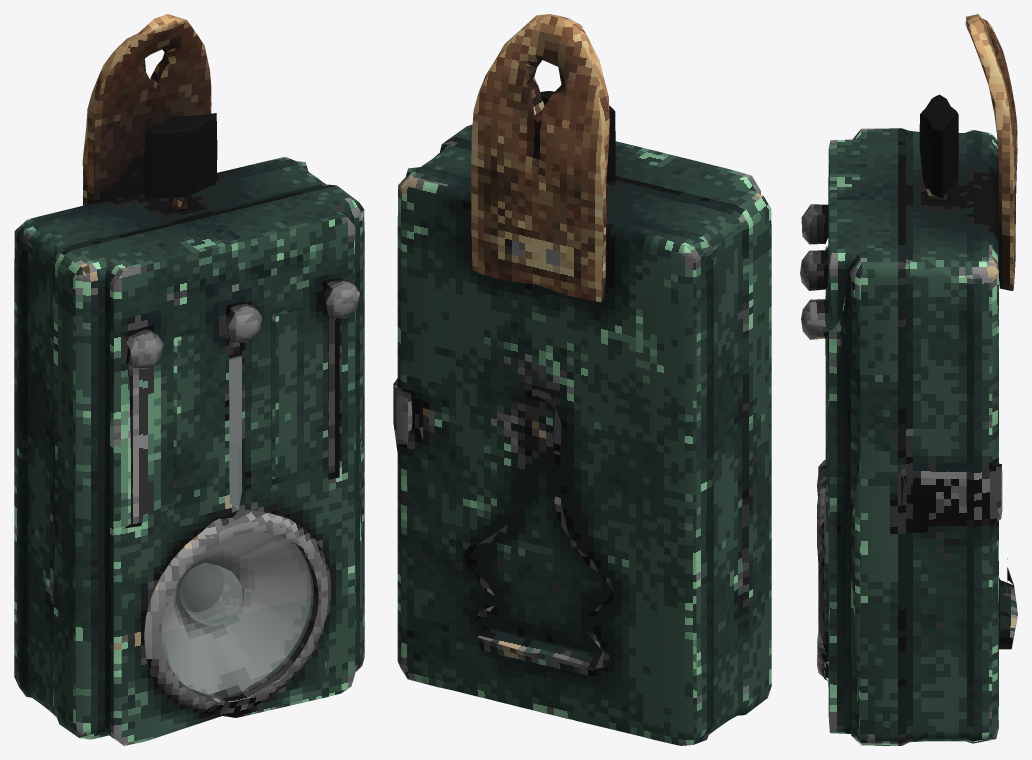
File: signal_flashlight.glb
3 renders of one model, left to right at view 1: azimuth 30°, elevation 25°; view 2: azimuth 150°, elevation 25°; view 3: azimuth 270°, elevation 25°, orthographic. The views are drawn at different scales.
Visible parts, largest first — view 1: body, glass; view 2: body; view 3: body.
Part boxes in pixels (<box>): body: <box>14,14,364,745</box>; glass: <box>162,355,313,697</box>; body: <box>393,14,771,745</box>; body: <box>800,14,1017,745</box>.
Bounding box in the file's own units: 0.0706 × 0.1499 × 0.0446.
Materials: 2 (2 with a texture image).
